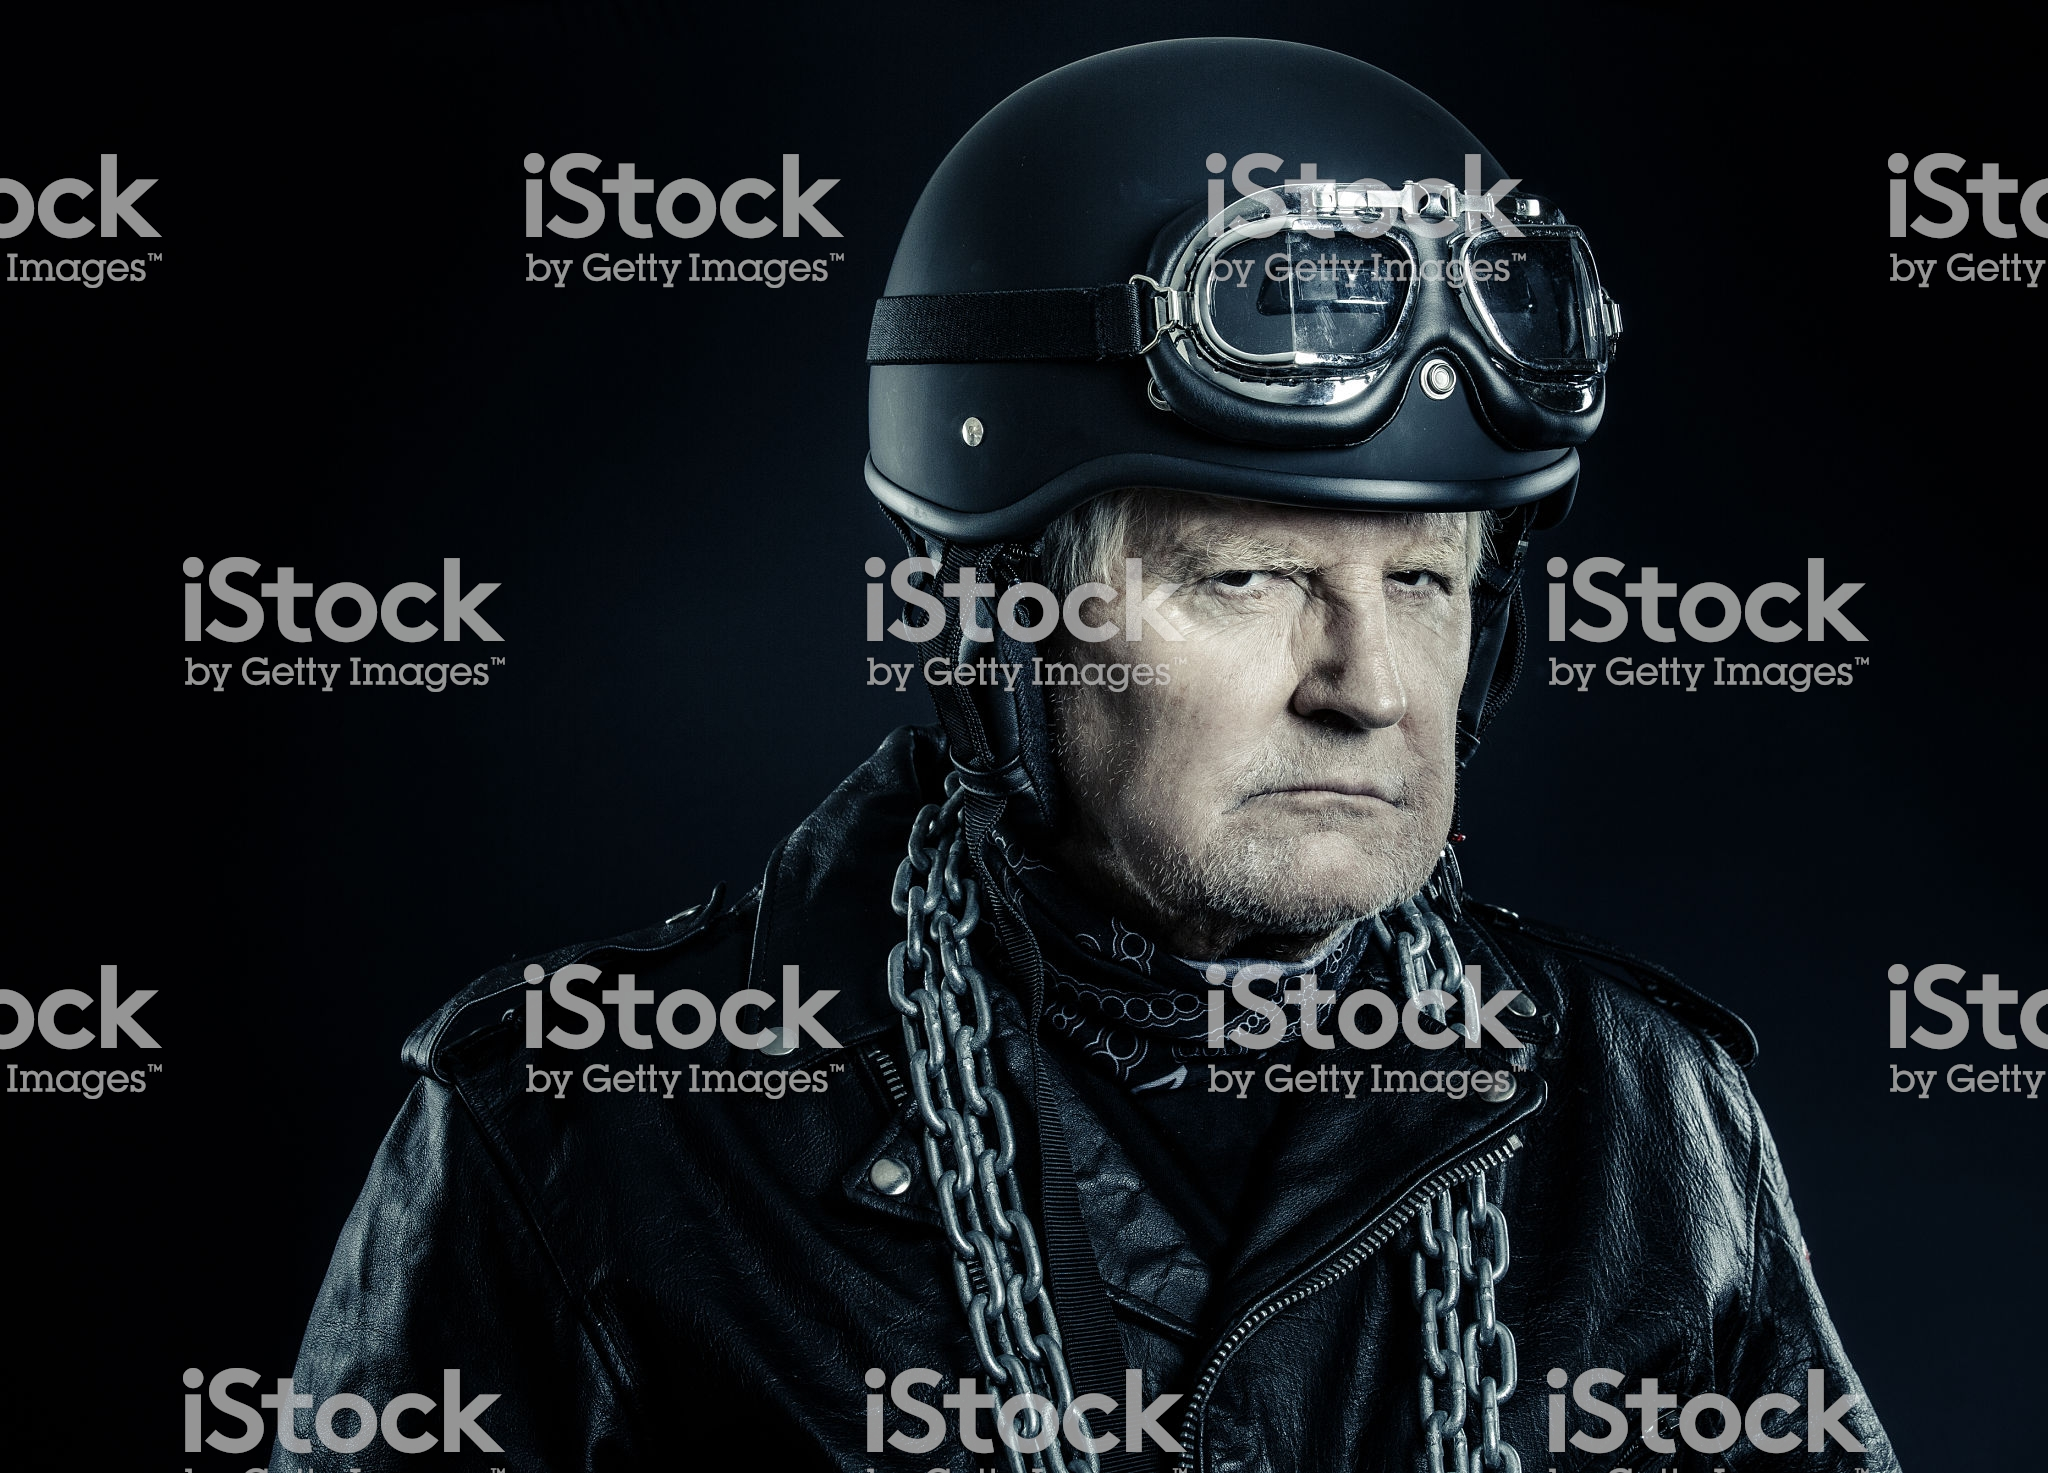helmet: (870, 73, 1628, 530)
